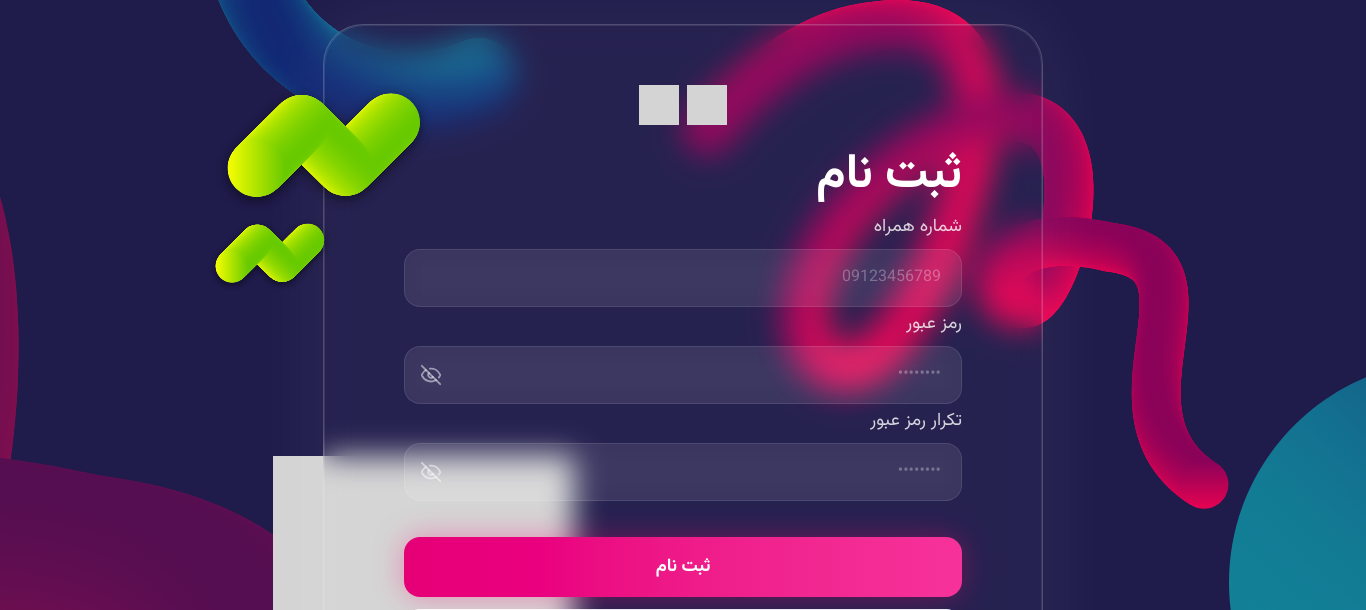
Test: Register Page › shows duplicate phone error
This screenshot has width=1366, height=610.
Type "09120000000" into the field with placeholder "09123456789" at (683, 278), box [404,249,962,307]
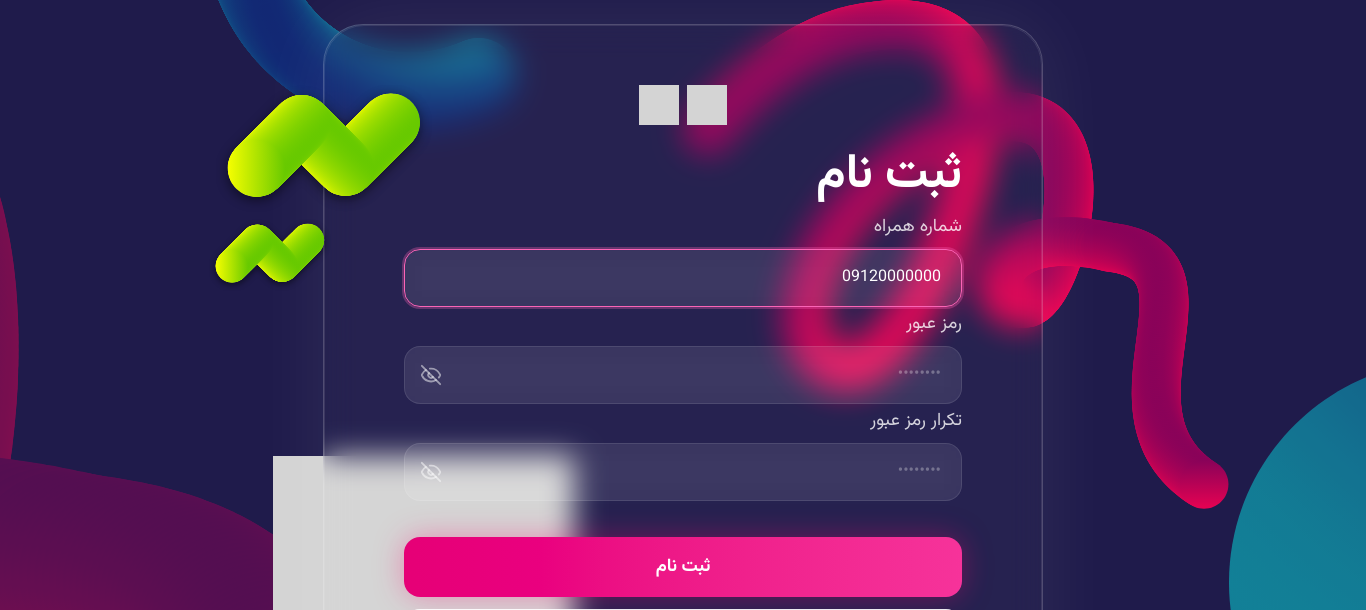
Type "Test@123" into the 1st password field with placeholder "••••••••" at (683, 375), box [404,346,962,404]
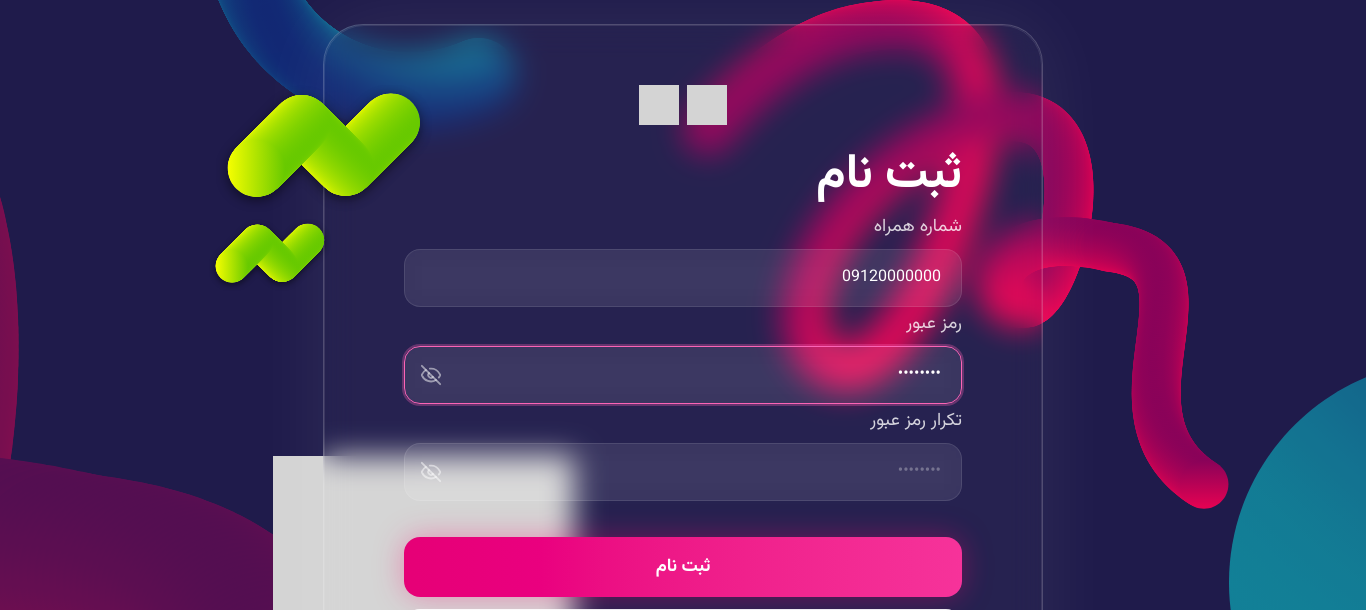
Type "Test@123" into the password field with placeholder "••••••••" at (683, 472), box [404,443,962,501]
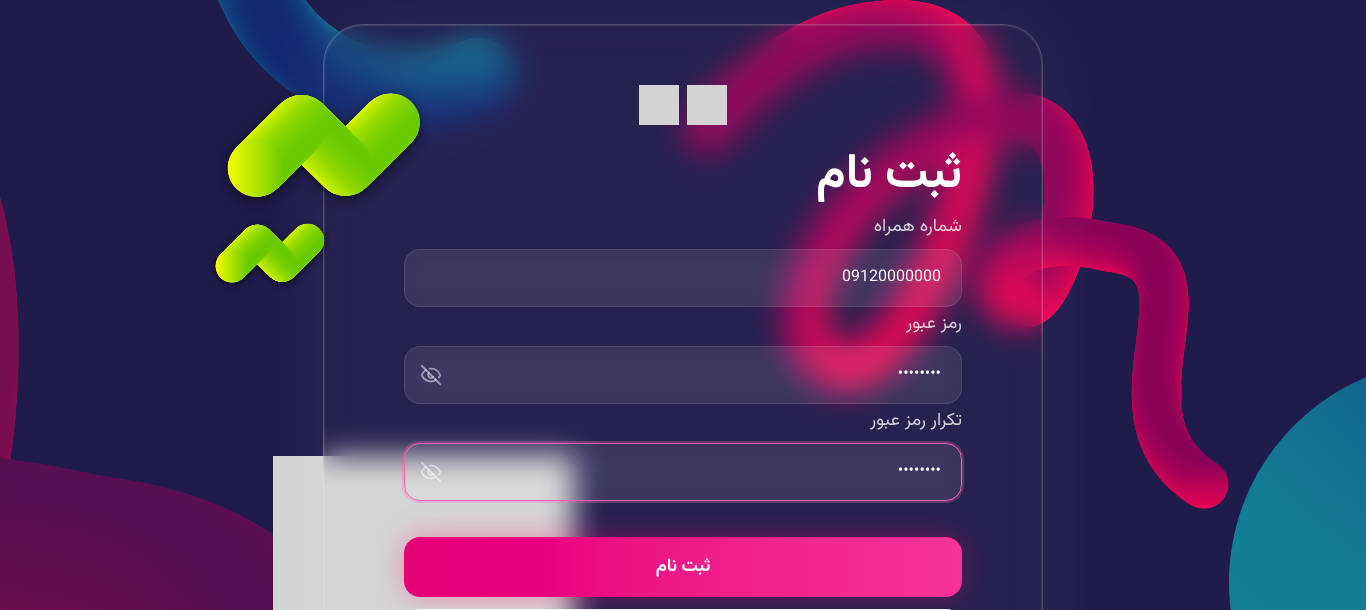
Click the button "ثبت نام" at (683, 567), box [404,537,962,597]
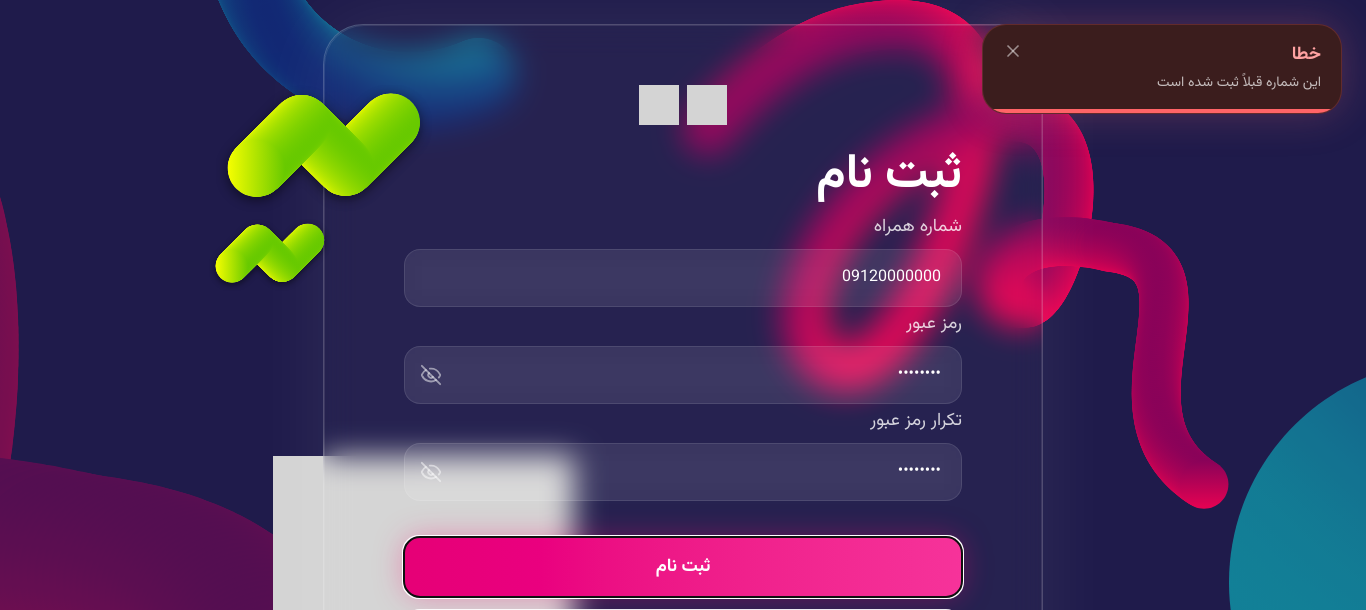
expect the text "این شماره قبلاً ثبت شده است" is shown: met, box [1157,73,1321,93]
